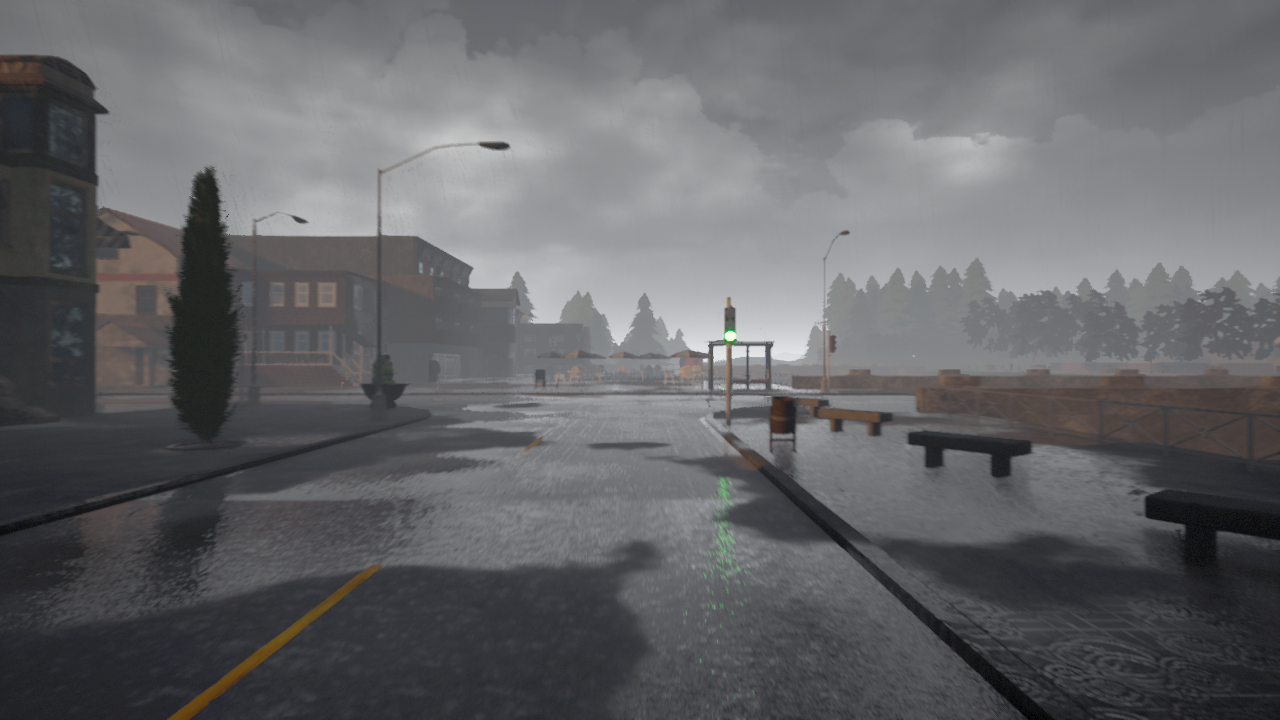green: (723, 307, 737, 343)
